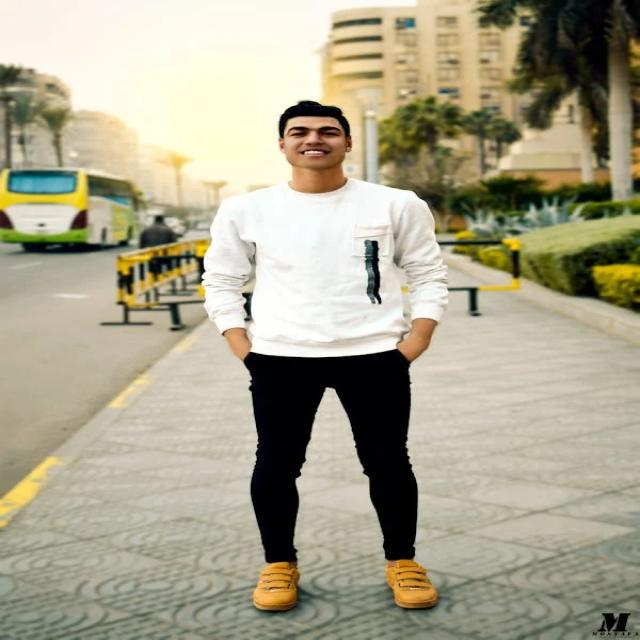Real human 2: (194, 88, 510, 632)
